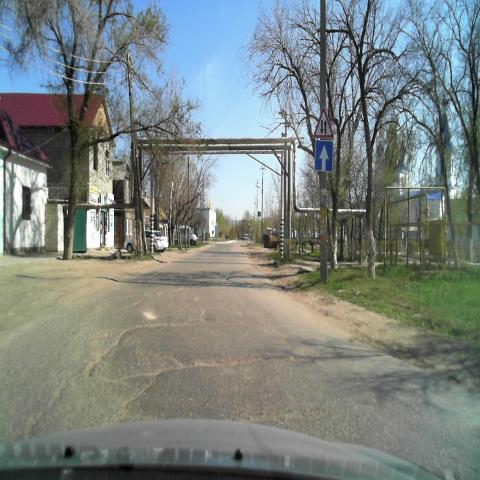1_21: (313, 106, 334, 138)
